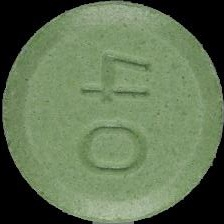43353-084: (0, 0, 224, 224)
